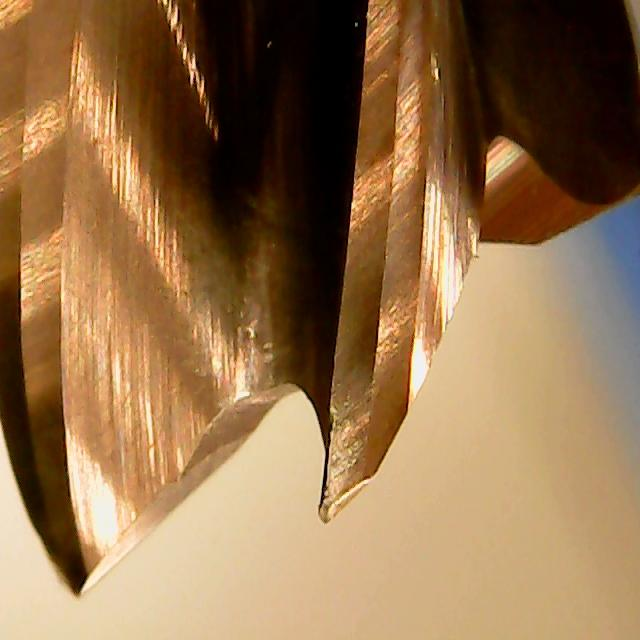Tool-wear-class-1: (304, 197, 428, 530)
